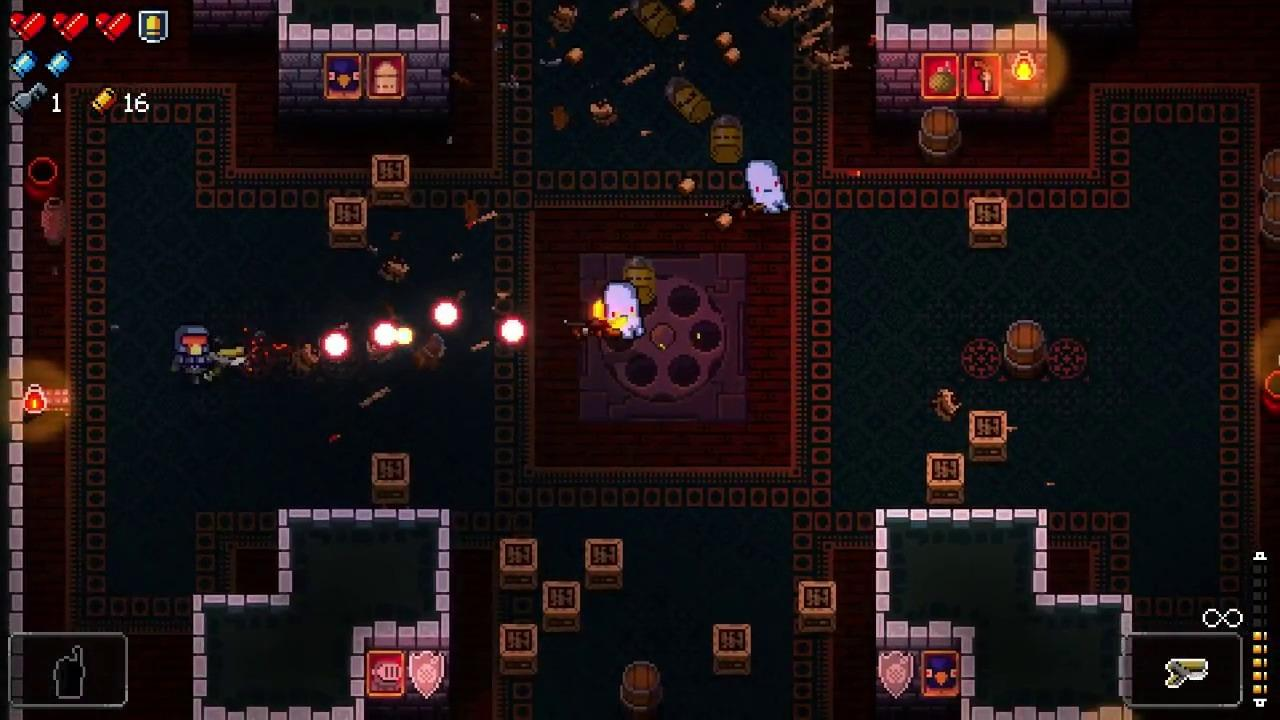bullet: (430, 298, 462, 330), (370, 318, 401, 349), (321, 328, 350, 360), (498, 317, 528, 347)
bullet_kin: (665, 77, 714, 123)
dead_bullet_kin: (631, 0, 678, 41), (709, 114, 743, 163), (624, 254, 656, 305)
hollowpoint: (744, 158, 791, 216), (602, 281, 645, 338)
player: (173, 324, 212, 377)
teleporter: (577, 250, 746, 420)
